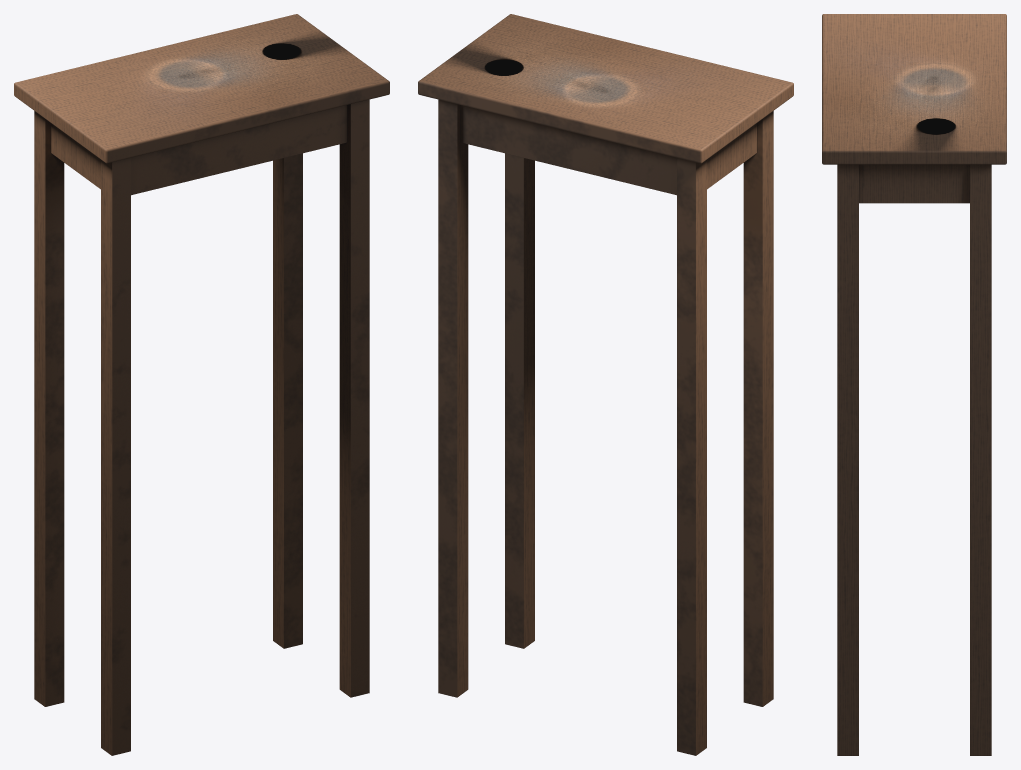
The model's file is 402_water.glb.
3 renders of one model, left to right at view 1: azimuth 30°, elevation 25°; view 2: azimuth 150°, elevation 25°; view 3: azimuth 270°, elevation 25°, orthographic.
Parts seen in each view (by area): view 1: Table; view 2: Table; view 3: Table.
Boxes of the visible parts, x1=… form: Table: x1=14, y1=14, x2=389, y2=755; Table: x1=418, y1=14, x2=793, y2=755; Table: x1=822, y1=14, x2=1006, y2=755.
Size of what is drawn, in the model's own units: 1.5 by 3.1 by 0.85.
Materials: 1 (1 with a texture image).
